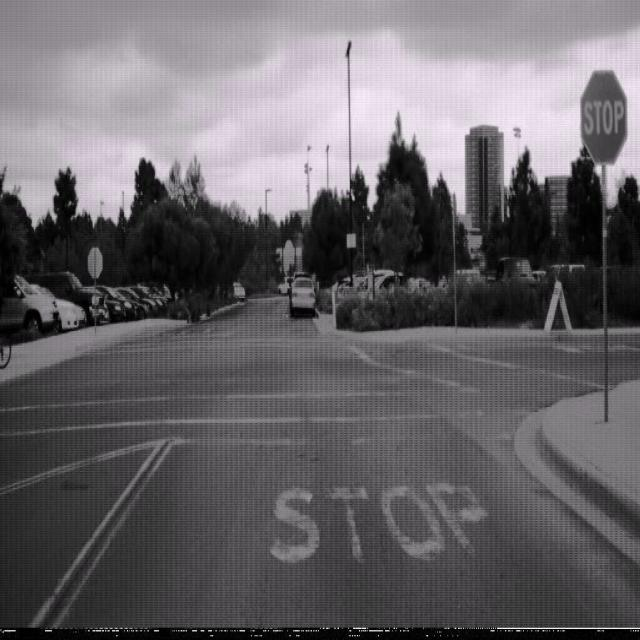stop_sign: (580, 68, 628, 166)
